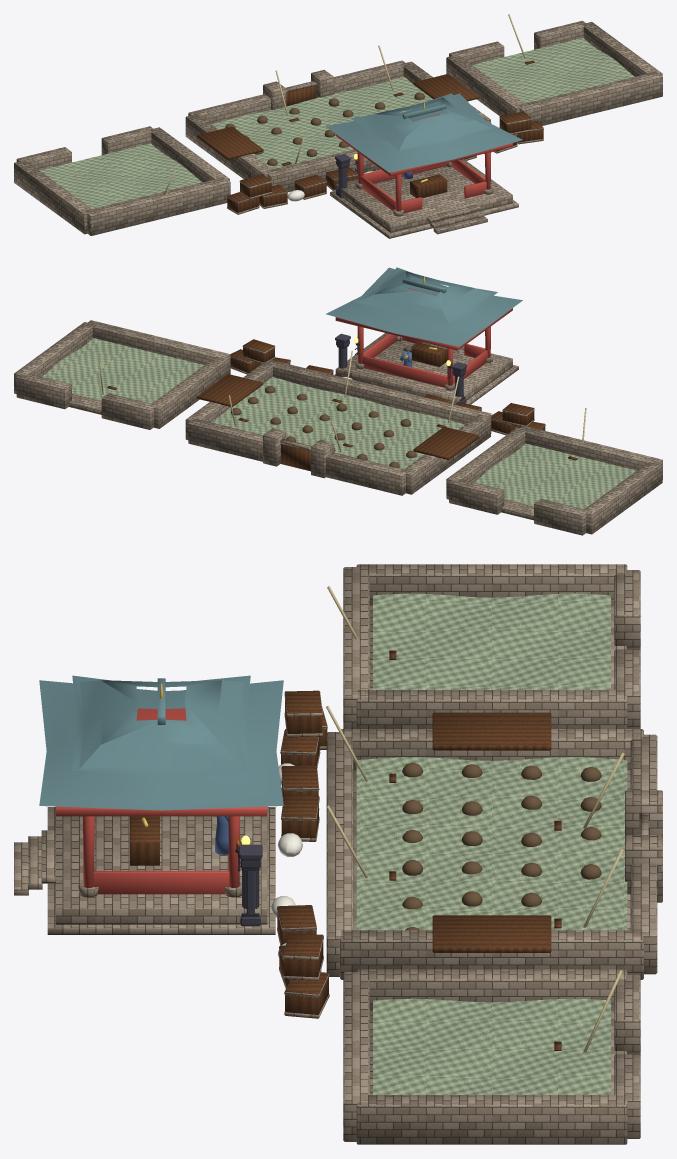
The model's file is humen-1839-opium.glb.
3 renders of one model, top to bottom at view 1: azimuth 30°, elevation 25°; view 2: azimuth 150°, elevation 25°; view 3: azimuth 270°, elevation 25°, orthographic. The views are drawn at different scales.
Parts seen in each view (by area): view 1: OpiumPit_StoneWalls, LimeWater, Pavilion_Structure, OpiumChests, OpiumBalls, SluiceGate, Paddles, Pavilion_Col_L; view 2: OpiumPit_StoneWalls, LimeWater, Pavilion_Structure, OpiumChests, OpiumBalls, SluiceGate, Paddles; view 3: OpiumPit_StoneWalls, LimeWater, Pavilion_Structure, OpiumChests, OpiumBalls, Paddles, Pavilion_Col_R.
Part boxes in pixels (x1=…): OpiumPit_StoneWalls: x1=14, y1=20, x2=662, y2=235; LimeWater: x1=40, y1=38, x2=634, y2=208; Pavilion_Structure: x1=325, y1=93, x2=522, y2=238; OpiumChests: x1=227, y1=111, x2=543, y2=214; OpiumBalls: x1=225, y1=92, x2=424, y2=165; SluiceGate: x1=286, y1=81, x2=316, y2=106; Paddles: x1=163, y1=14, x2=534, y2=194; Pavilion_Col_L: x1=335, y1=154, x2=350, y2=197; OpiumPit_StoneWalls: x1=14, y1=320, x2=662, y2=535; LimeWater: x1=42, y1=338, x2=636, y2=509; Pavilion_Structure: x1=326, y1=267, x2=522, y2=404; OpiumChests: x1=230, y1=339, x2=545, y2=435; OpiumBalls: x1=231, y1=386, x2=416, y2=467; SluiceGate: x1=280, y1=439, x2=311, y2=471; Paddles: x1=99, y1=350, x2=586, y2=460; OpiumPit_StoneWalls: x1=326, y1=564, x2=662, y2=1144; LimeWater: x1=356, y1=593, x2=627, y2=1094; Pavilion_Structure: x1=14, y1=675, x2=283, y2=934; OpiumChests: x1=271, y1=690, x2=329, y2=1018; OpiumBalls: x1=402, y1=762, x2=601, y2=930; Paddles: x1=326, y1=586, x2=624, y2=1052; Pavilion_Col_R: x1=239, y1=844, x2=262, y2=926.
Bounding box in the file's own units: 38.8 × 6.45 × 19.64.
23 materials, 4 textured.
